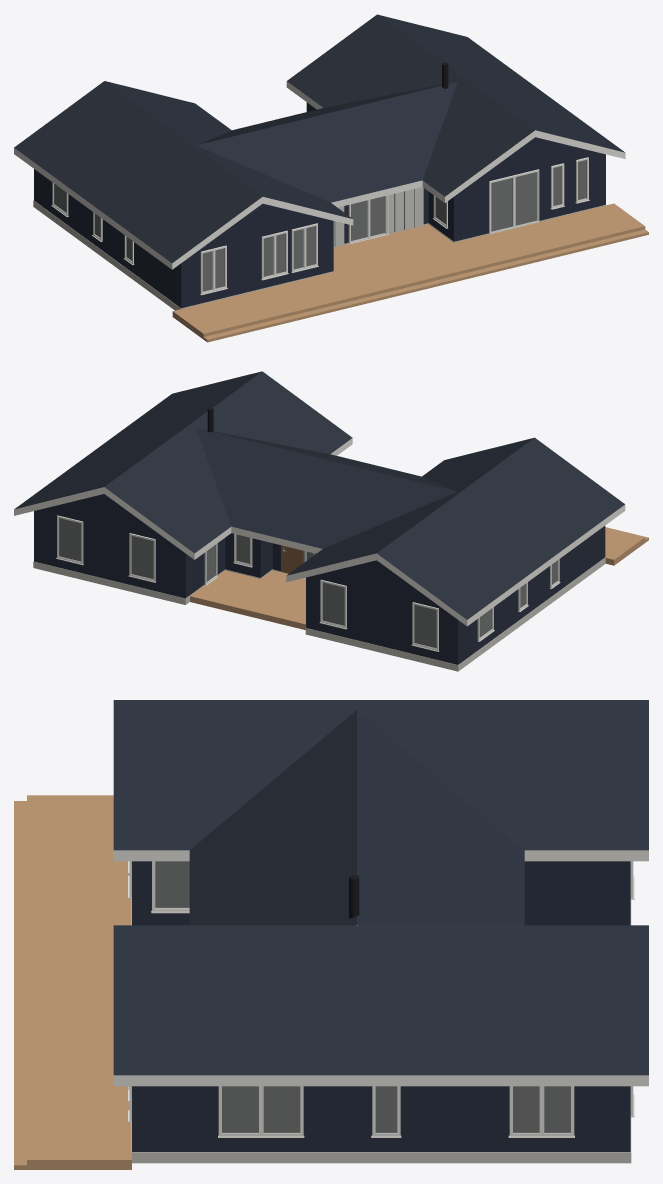
Rendered from teder_c0_p1_m0.glb.
3 renders of one model, top to bottom at view 1: azimuth 30°, elevation 25°; view 2: azimuth 150°, elevation 25°; view 3: azimuth 270°, elevation 25°, orthographic. The views are drawn at different scales.
Parts seen in each view (by area): view 1: roof, deck, wall, glass, curtain, fascia, frame, panel, plinth; view 2: roof, wall, deck, glass, fascia, curtain, plinth, frame, door; view 3: roof, deck, wall, fascia, glass, curtain, plinth, frame.
Part boxes in pixels (<box>): roof: <box>14,14,624,263</box>; deck: <box>172,203,648,342</box>; wall: <box>34,102,605,308</box>; glass: <box>54,160,586,291</box>; curtain: <box>54,160,586,291</box>; fascia: <box>14,81,625,269</box>; frame: <box>51,157,589,295</box>; panel: <box>333,187,423,247</box>; plinth: <box>33,200,606,310</box>; roof: <box>14,371,624,619</box>; wall: <box>34,494,605,664</box>; deck: <box>190,527,648,629</box>; glass: <box>59,518,557,648</box>; fascia: <box>14,438,625,626</box>; curtain: <box>59,518,557,647</box>; plinth: <box>33,557,605,671</box>; frame: <box>56,515,560,651</box>; door: <box>281,545,303,573</box>; roof: <box>113,700,648,1075</box>; deck: <box>14,795,131,1169</box>; wall: <box>132,861,630,1151</box>; fascia: <box>113,850,648,1086</box>; glass: <box>155,861,570,1132</box>; curtain: <box>155,861,570,1132</box>; plinth: <box>131,898,631,1163</box>; frame: <box>128,861,634,1137</box>.
Size of the model in its own units: 21.93 by 5.66 by 15.72.
13 materials, 5 textured.
